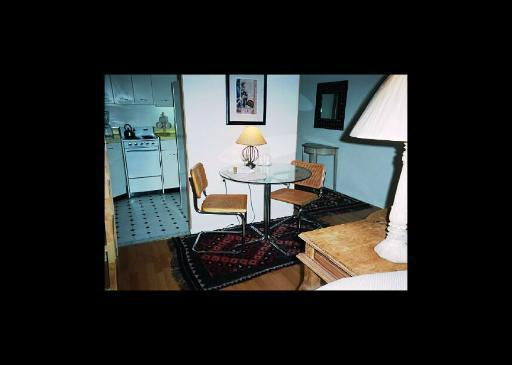Electrodomestico: (125, 138, 158, 195)
